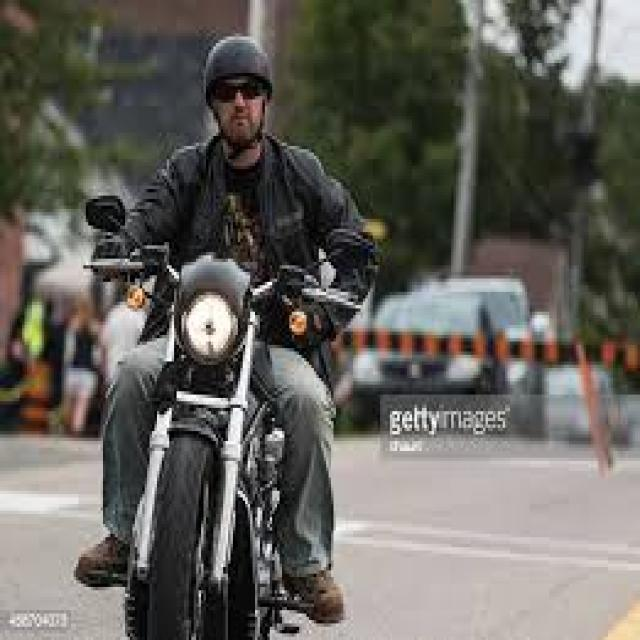MOTORCYCLE: (122, 252, 320, 638)
